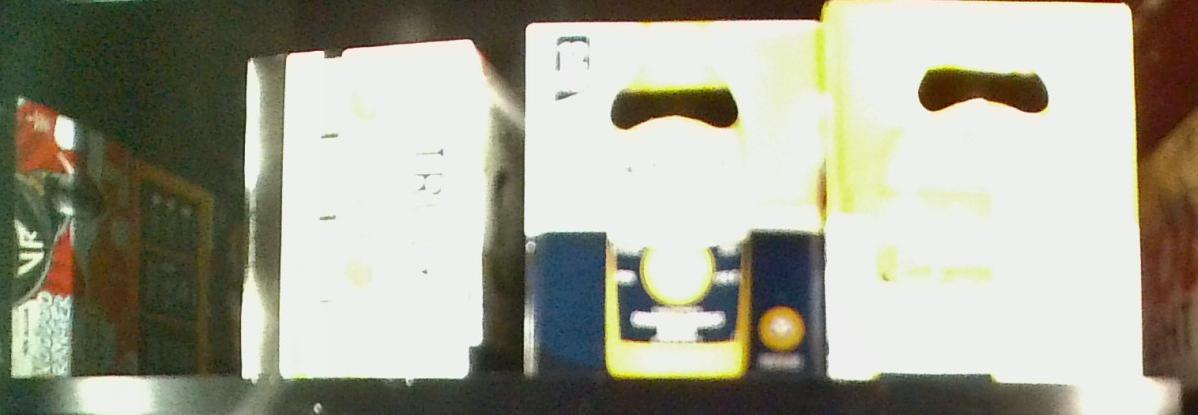bottle: (826, 1, 1139, 376), (525, 21, 828, 379), (239, 47, 521, 378)
